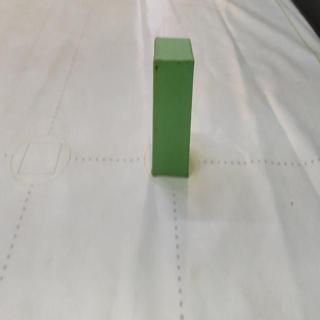greenbox: (151, 36, 196, 177)
